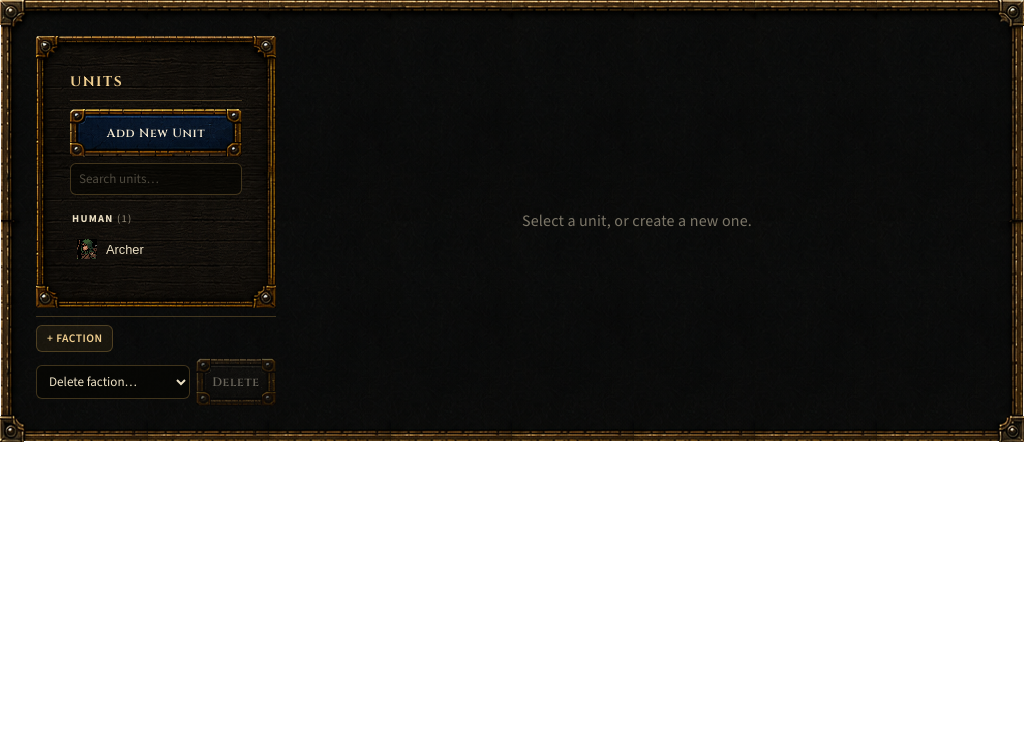
UnitTypeEditorPanel unit list + promotion paths › lists units in the sidebar; selecting a unit reveals its promotion paths (hidden until then)
Expected: the text "marksman" is not shown
Expected: the text "trapper" is not shown
Click the button "Archer" at (134, 249), box x1=70 y1=234 x2=197 y2=264
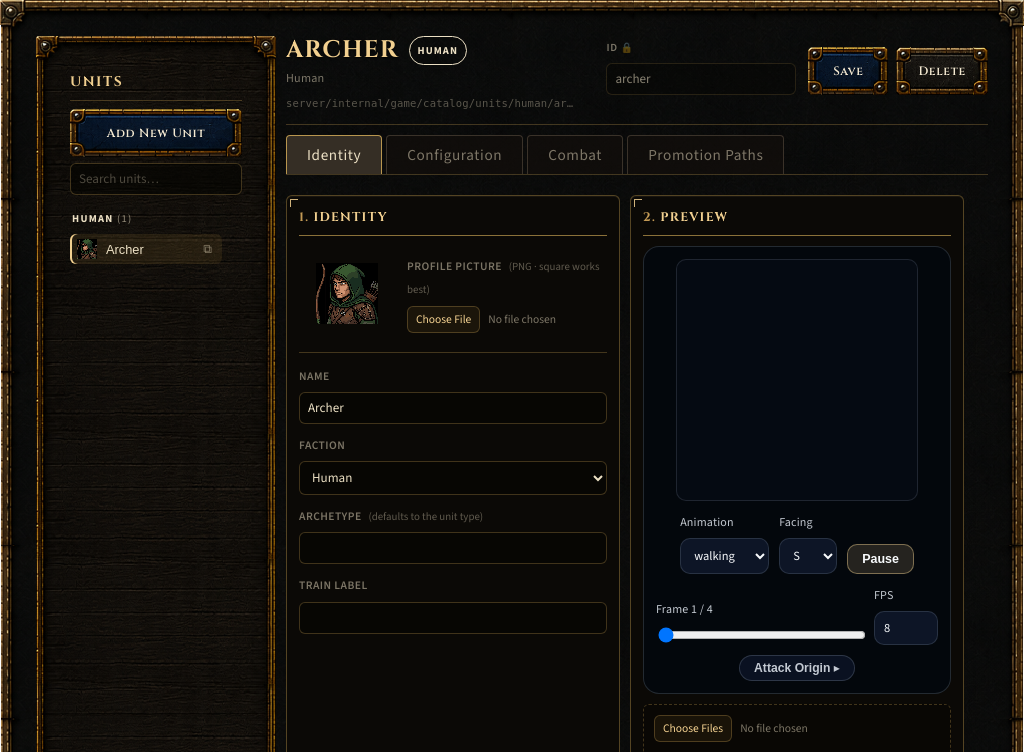
Click the tab "Promotion Paths" at (706, 154), box x1=627 y1=135 x2=784 y2=174
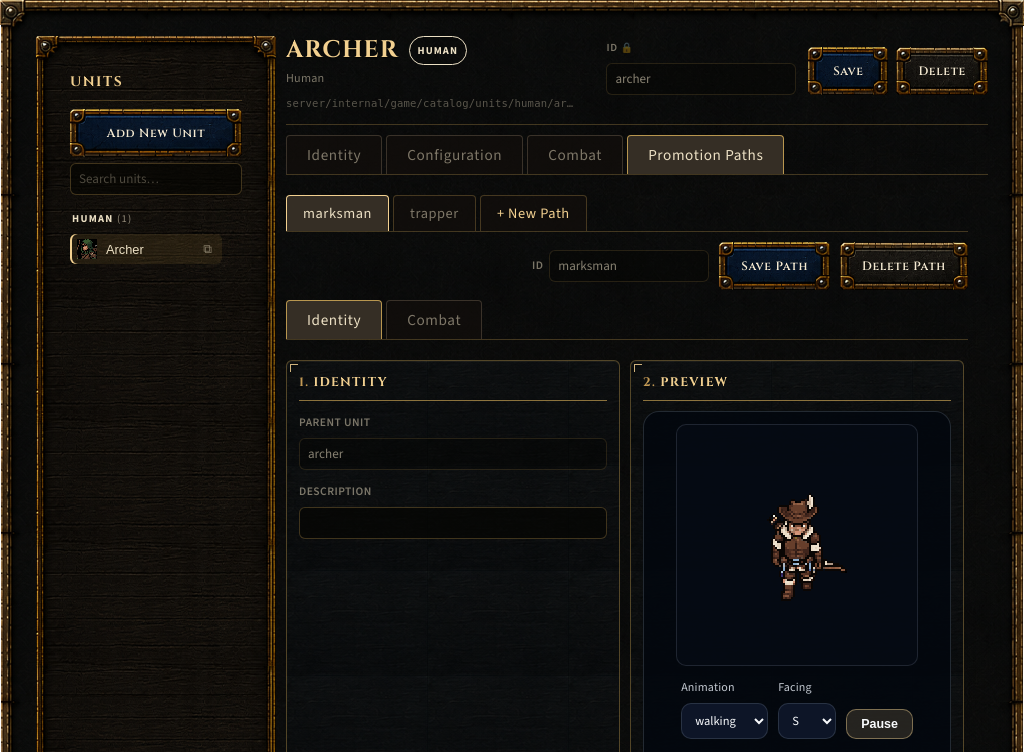
Result: the text "marksman" is shown at x1=286 y1=195 x2=389 y2=231
Result: the text "trapper" is shown at x1=393 y1=195 x2=476 y2=231
